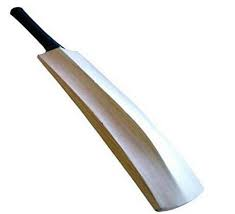bottom left: (152, 198, 167, 214)
bottom right: (194, 179, 213, 198)
top left: (31, 48, 47, 64)
top right: (69, 45, 83, 59)
